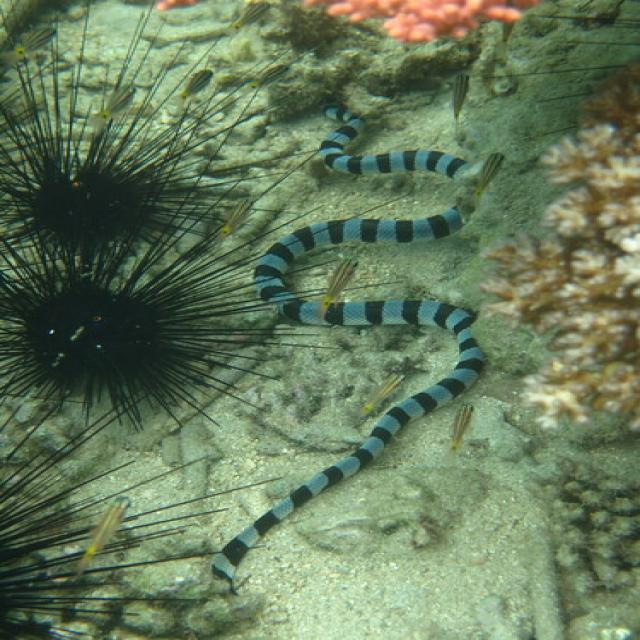Urchin: (2, 12, 288, 275), (2, 229, 341, 437)
